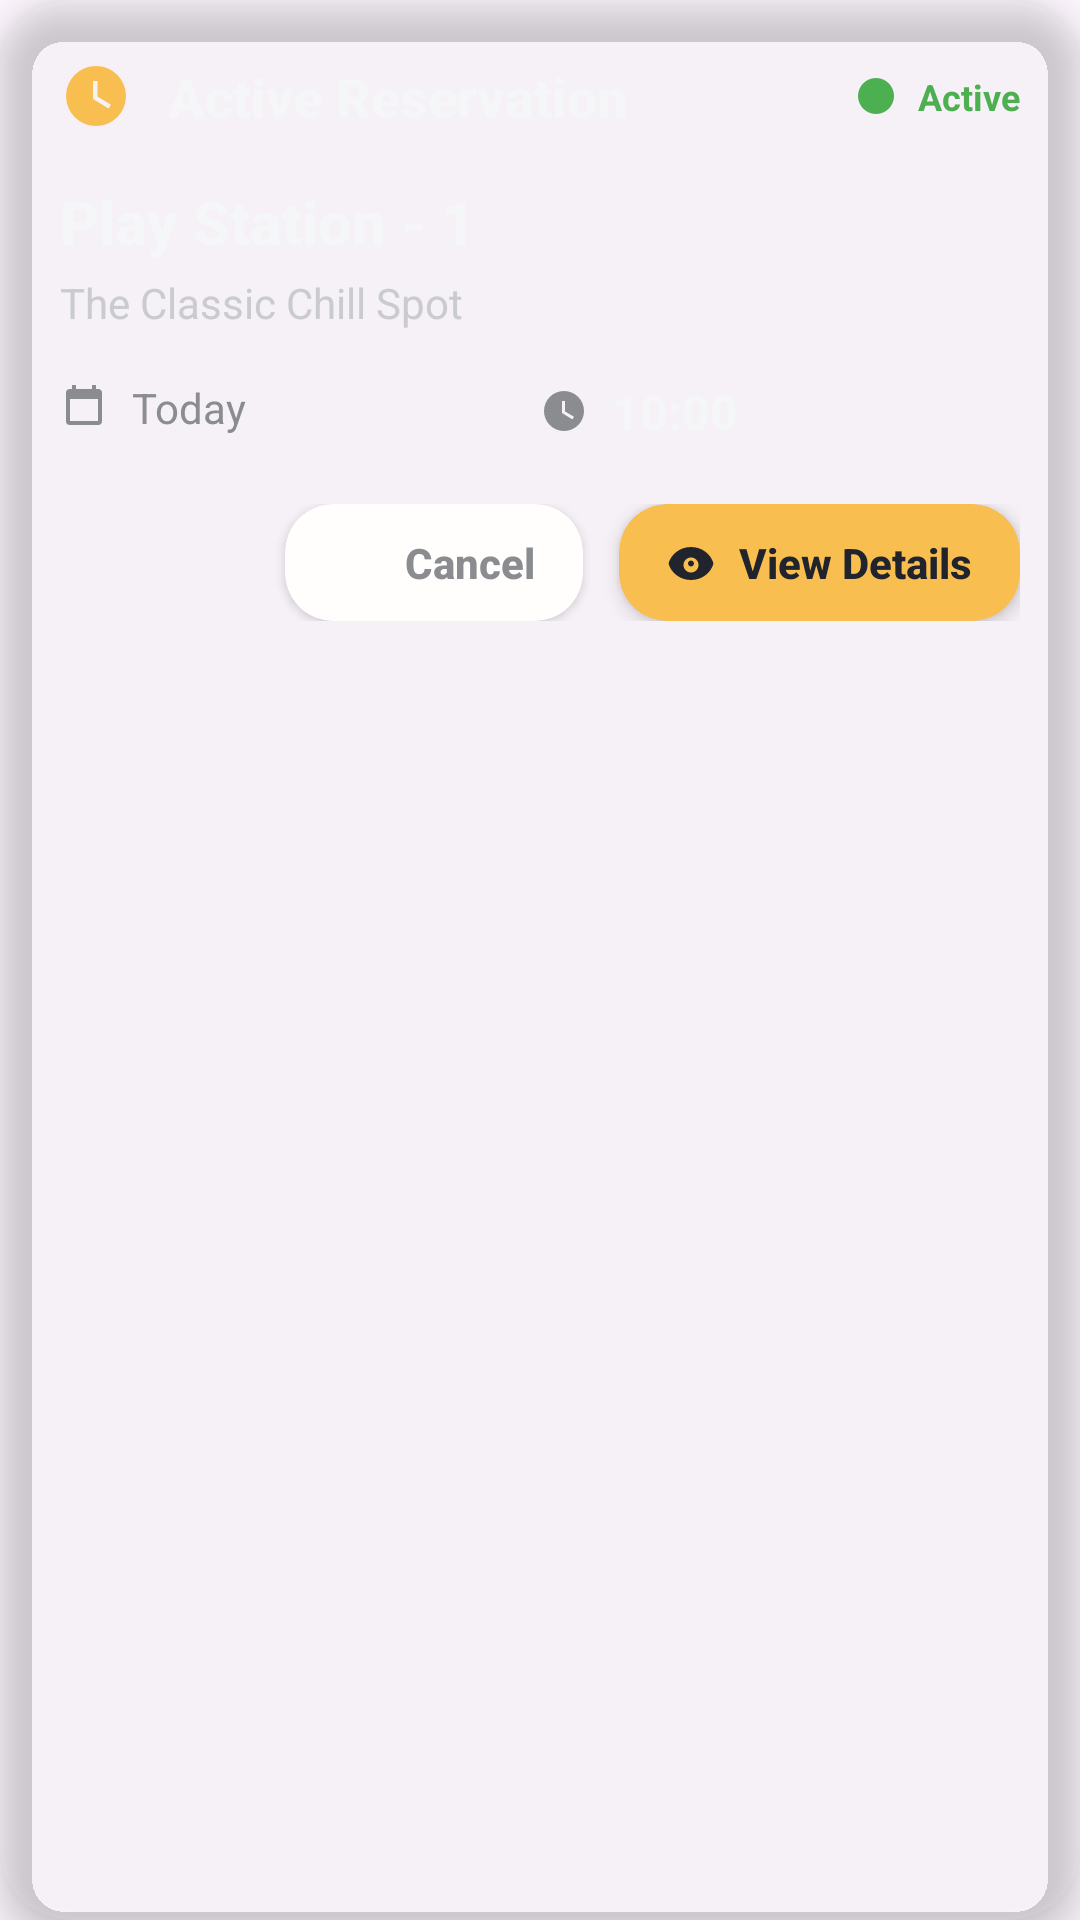

Named icons in this screenshot (1080 × 1920) and their centers, (x=x, y=y):
calendar: (x=84, y=405)
clock: (x=96, y=96), (x=564, y=411)
eye: (x=691, y=563)
